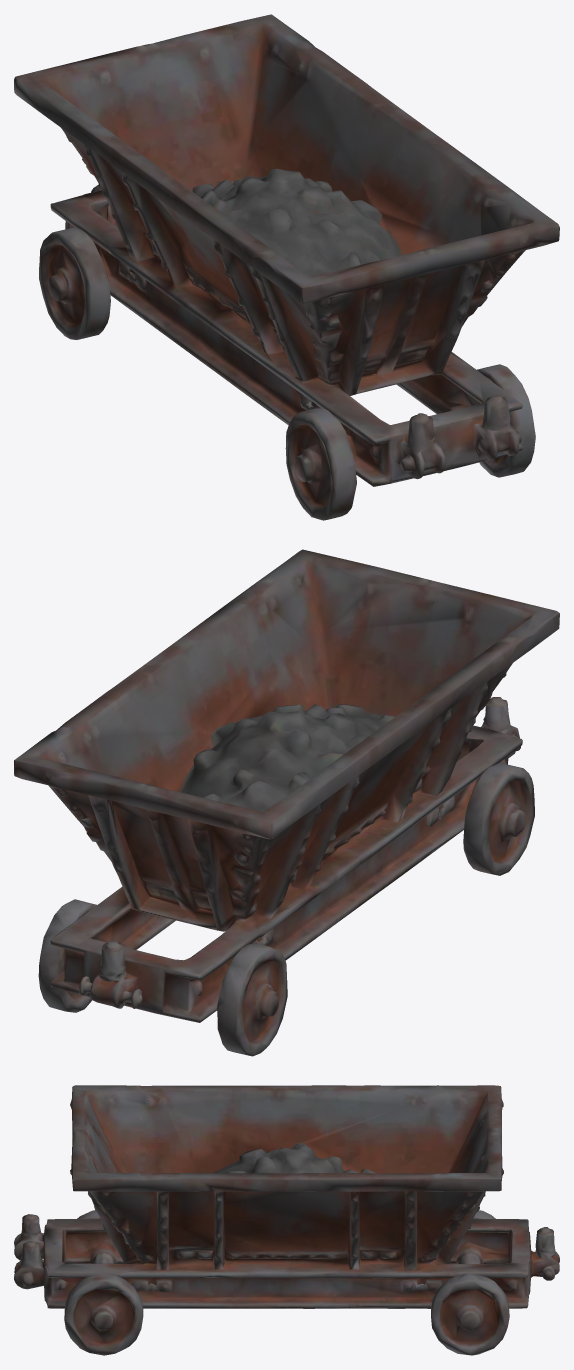
File: vagoneta.movil.glb
The picture shows the model from 3 angles, top to bottom: view 1: azimuth 30°, elevation 25°; view 2: azimuth 150°, elevation 25°; view 3: azimuth 270°, elevation 25°; orthographic projection. The views are drawn at different scales.
Parts seen in each view (by area): view 1: geometry_0; view 2: geometry_0; view 3: geometry_0.
Boxes of the visible parts, box(x1,y1,x2,y2) form: geometry_0: box(14, 14, 559, 520); geometry_0: box(14, 549, 559, 1056); geometry_0: box(14, 1085, 559, 1355).
Bounding box in the file's own units: 0.4081 × 0.3858 × 1.
Materials: 1 (1 with a texture image).
